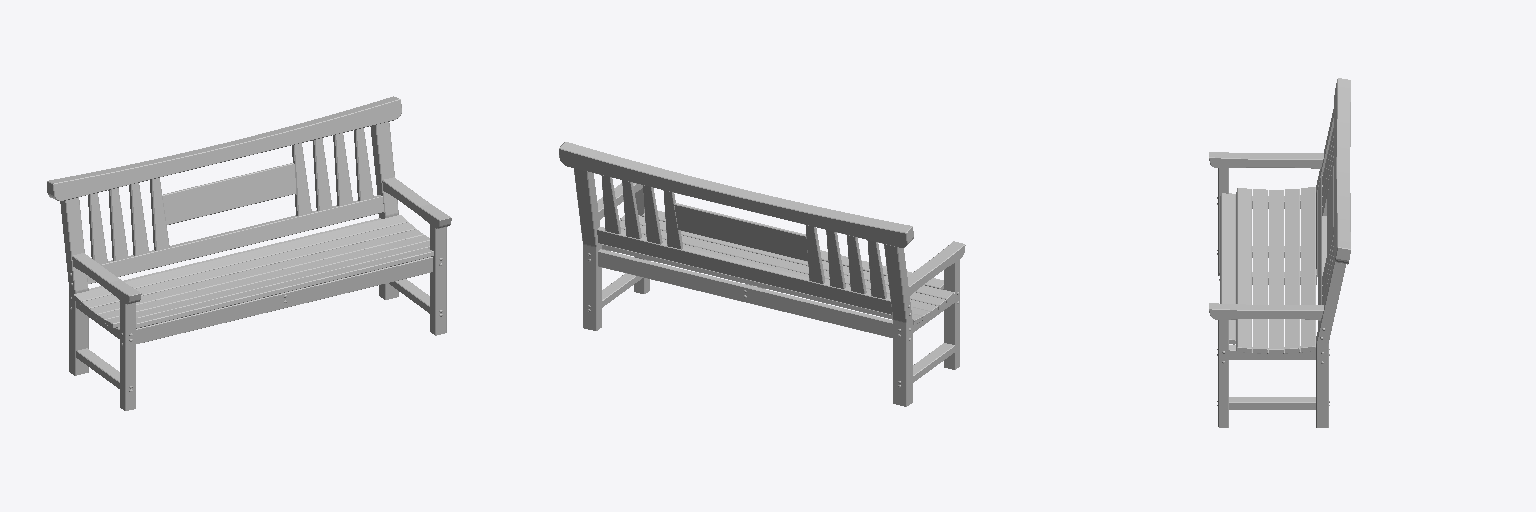
The model's file is woodBench.obj.
3 views of the same model, side by side, from view 1: azimuth 30°, elevation 25°; view 2: azimuth 150°, elevation 25°; view 3: azimuth 270°, elevation 25° (orthographic).
Visible parts, largest first — view 1: Bench_Bench.002; view 2: Bench_Bench.002; view 3: Bench_Bench.002.
Boxes of the visible parts, x1=… form: Bench_Bench.002: x1=47, y1=96, x2=451, y2=410; Bench_Bench.002: x1=559, y1=142, x2=965, y2=406; Bench_Bench.002: x1=1209, y1=78, x2=1350, y2=427.
Bounding box in the file's own units: 4 × 2.05 × 1.42.